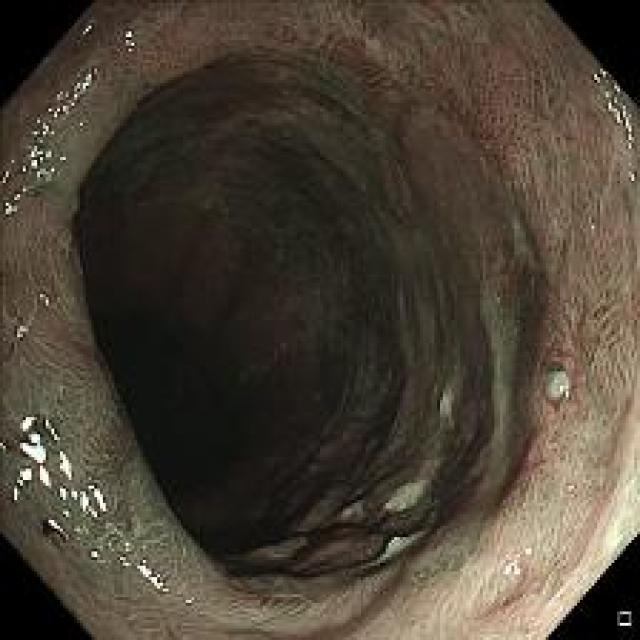color misalignment: (592, 68, 635, 148)
contrast: (71, 95, 390, 570)
specularity: (9, 415, 108, 542), (10, 75, 108, 202), (594, 66, 634, 176), (121, 550, 191, 601), (502, 545, 535, 585), (2, 162, 19, 216), (558, 382, 579, 412), (122, 28, 136, 52), (15, 320, 30, 341), (35, 291, 52, 308), (80, 18, 92, 38), (88, 546, 102, 559)
